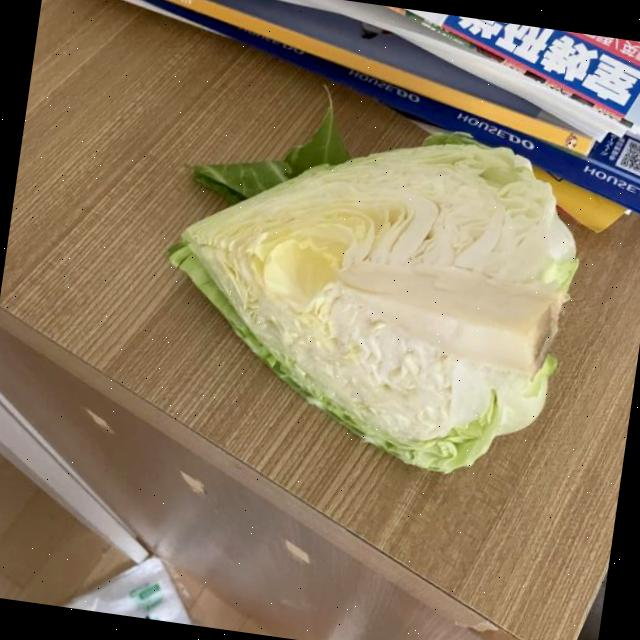cabbage: (144, 66, 606, 494)
